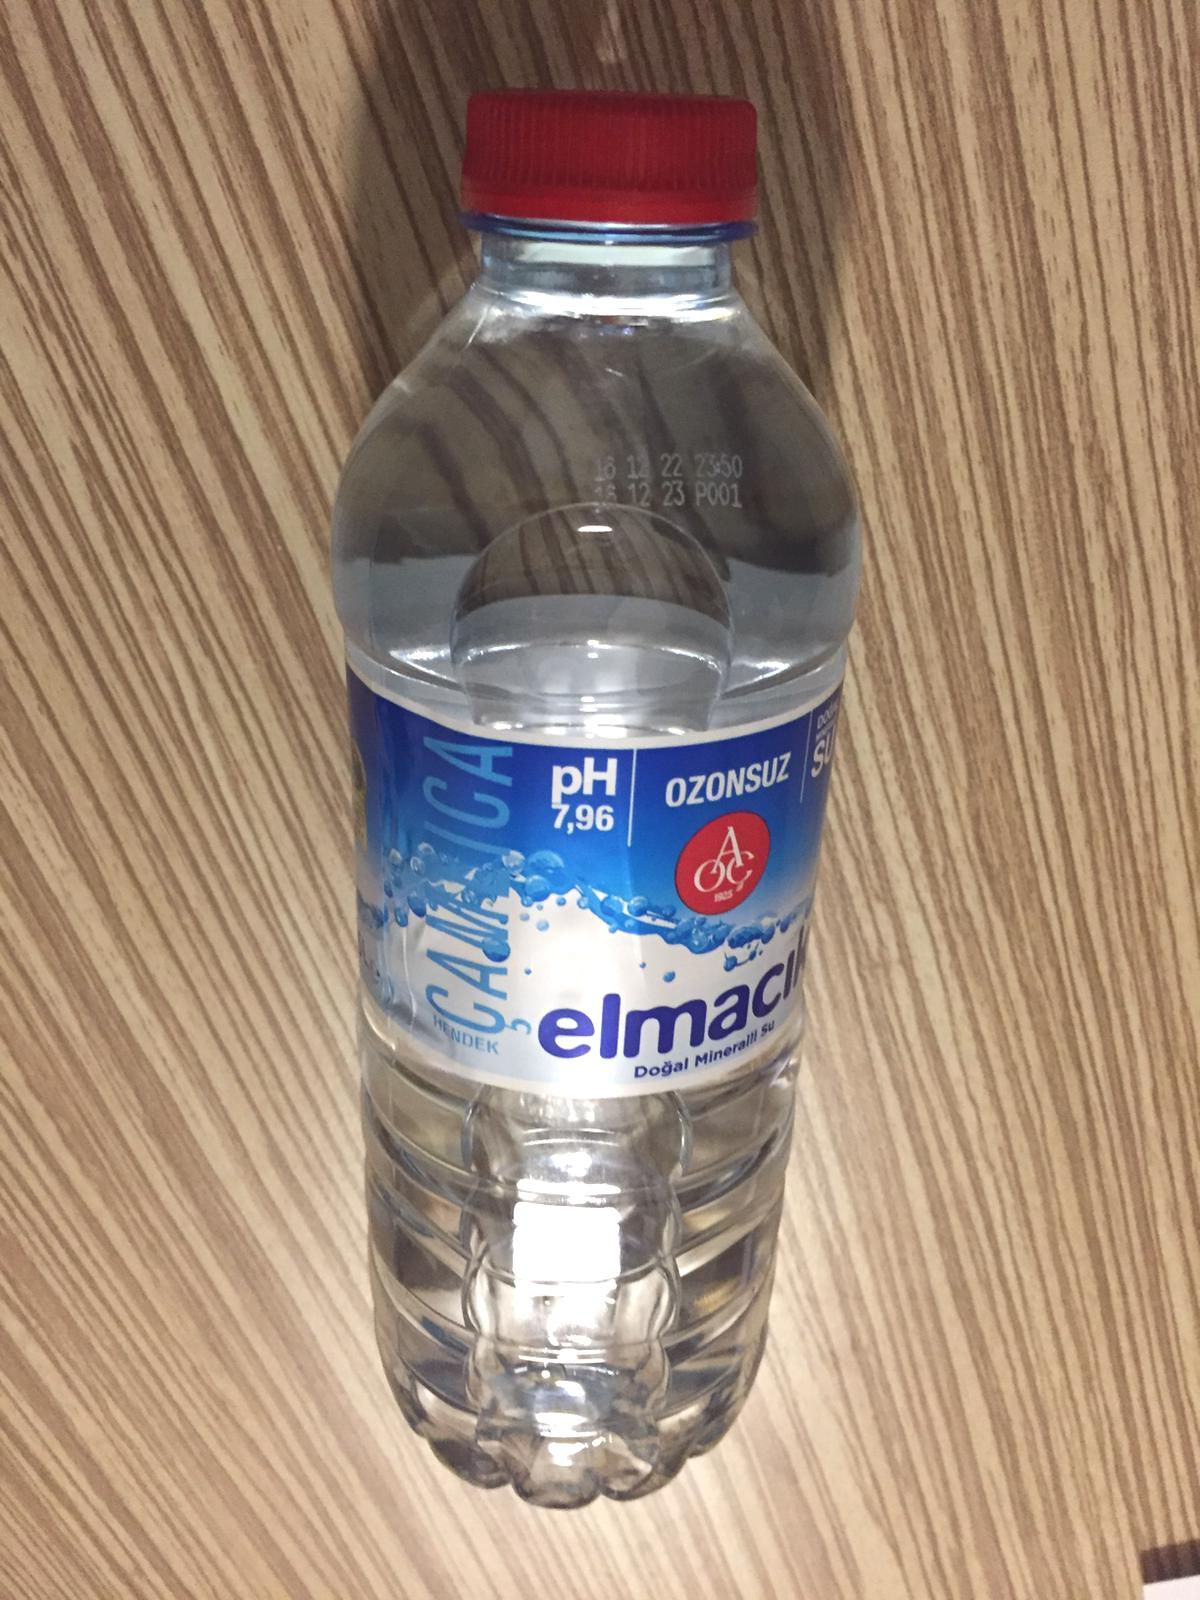bottle: (348, 79, 871, 1506)
